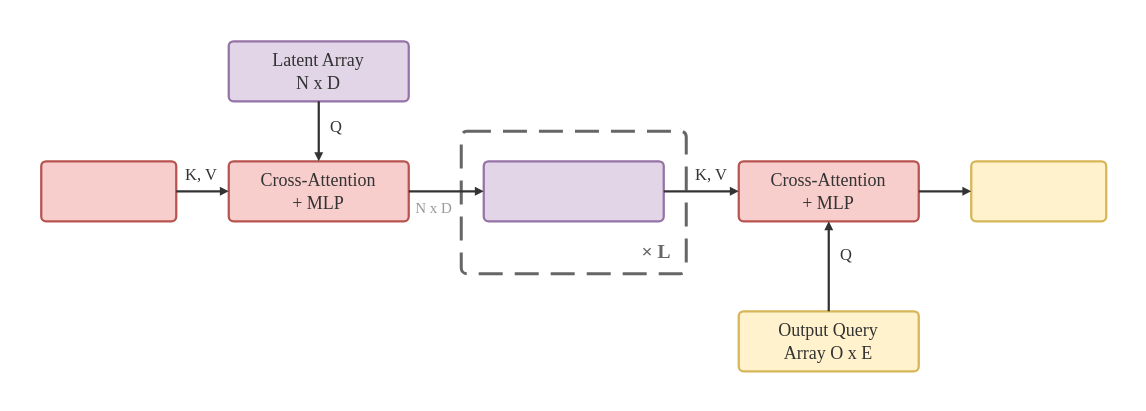
This 1146x411 diagram has some shape labels left out. The shapes that lost their labels are listed below. From the top down, each one's centre as x and y in pixels, then its label:
At pixel 108 190: "Input Array M x C".
At pixel 573 190: "Self-Attention + MLP".
At pixel 1038 190: "Output Array O x E".
